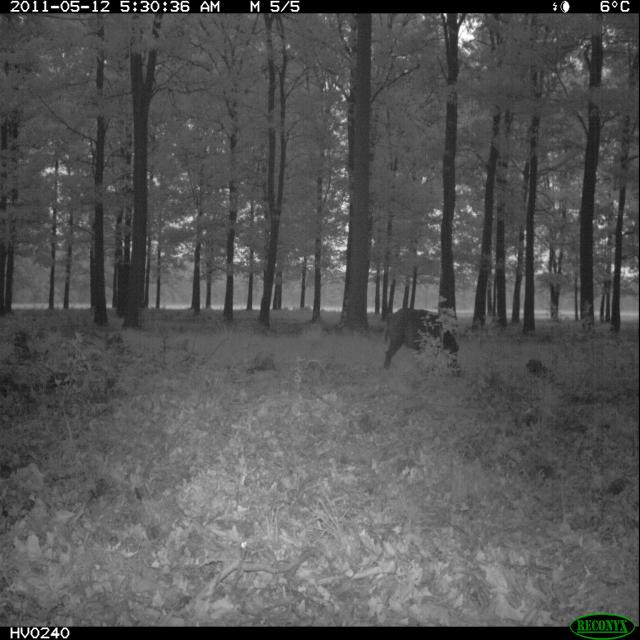boar: (368, 270, 489, 414)
